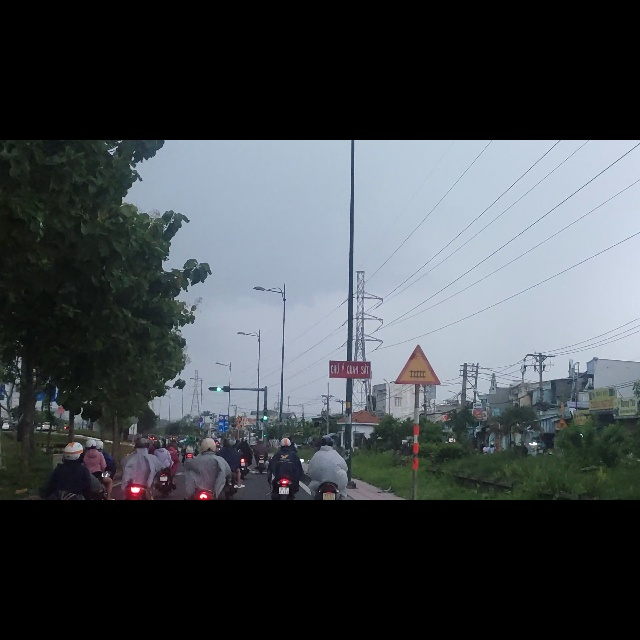bien_nguy_hiem: (396, 363, 441, 434), (198, 502, 203, 511)
